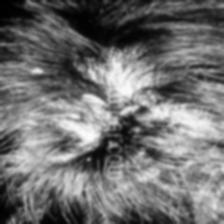Non-Cancerous Skin Condition: (80, 55, 148, 91), (78, 91, 108, 105), (71, 129, 101, 138), (29, 68, 45, 72)
